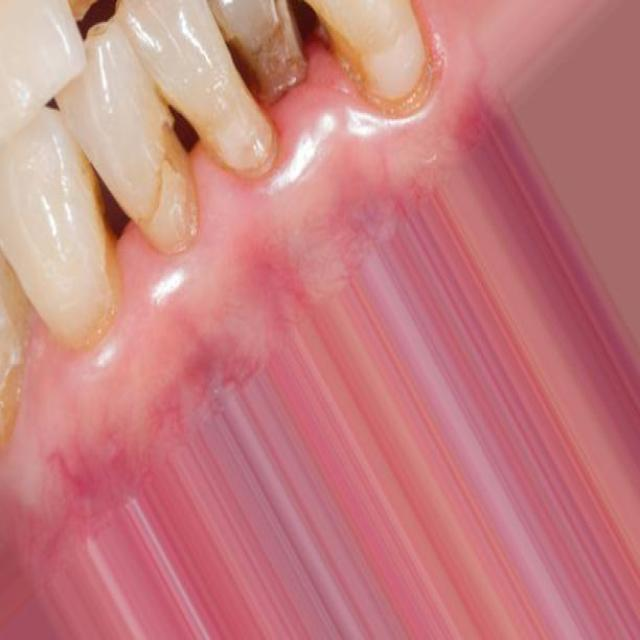caries: (121, 107, 213, 270), (223, 0, 319, 116)
